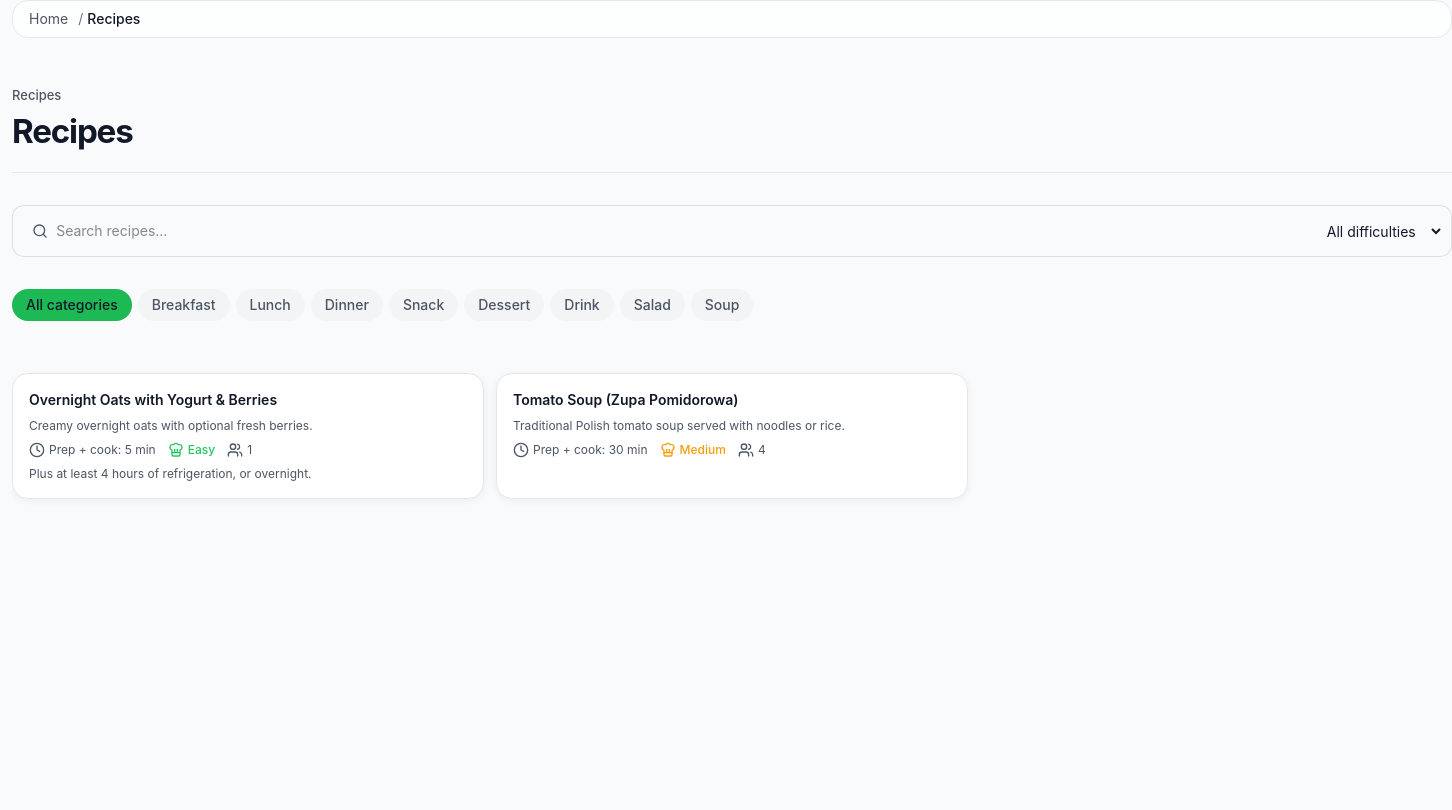
RecipesBrowsePage › shows filter chips when a category tab is selected
The image size is (1452, 810).
Click the tab "Breakfast" at coordinates (184, 305), box [138, 289, 230, 321]
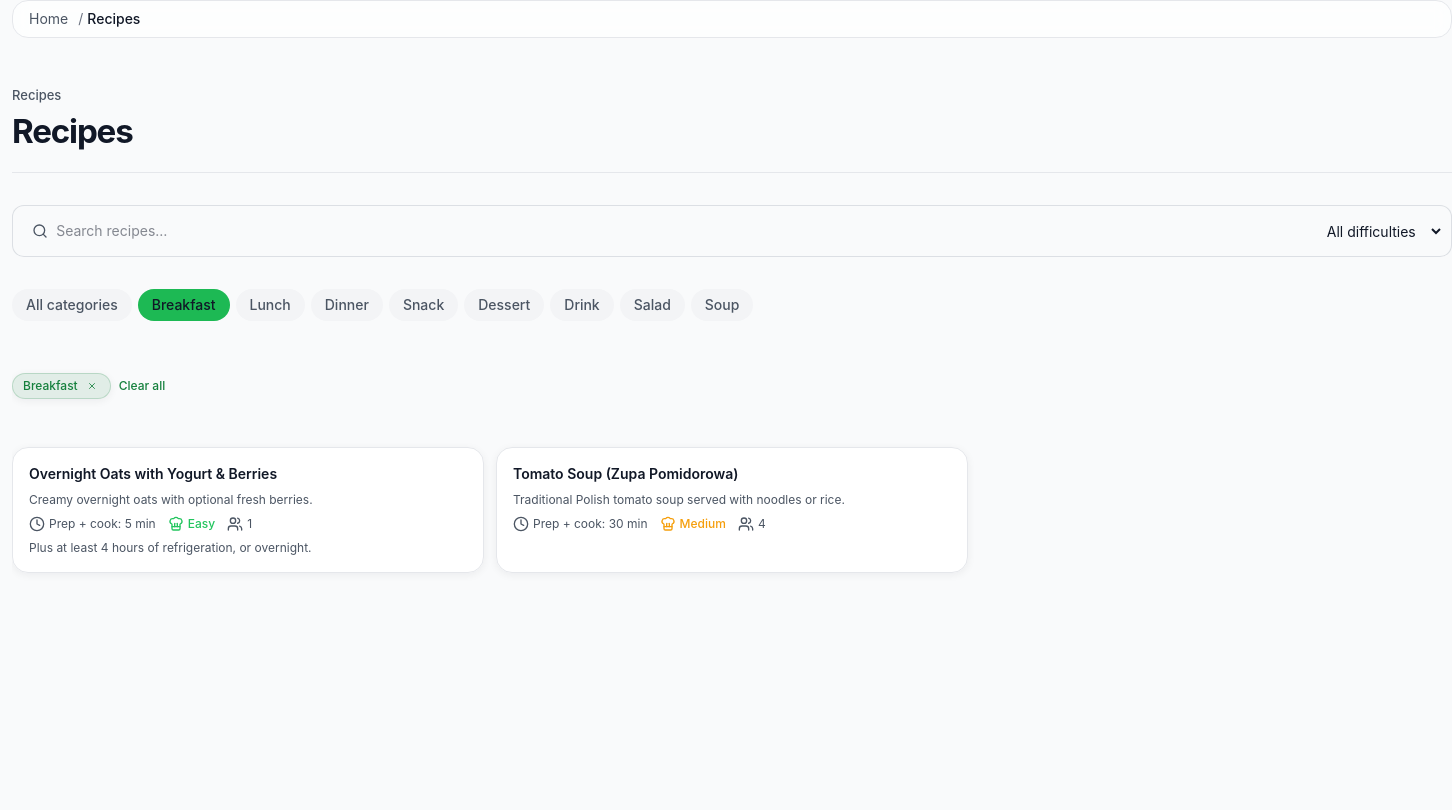
expect the element with test id "active-filter-chips" is shown: met, box [12, 373, 165, 399]
expect the text "Breakfast" is shown: met, box [12, 373, 111, 399]
